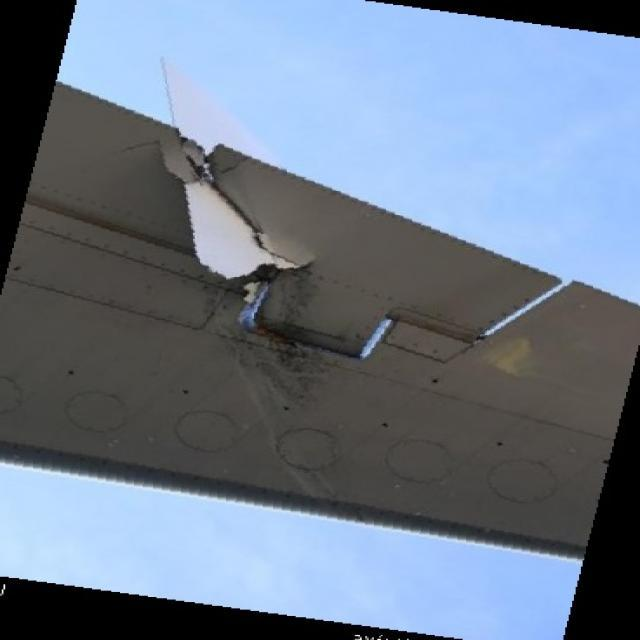crack: (81, 140, 328, 288)
